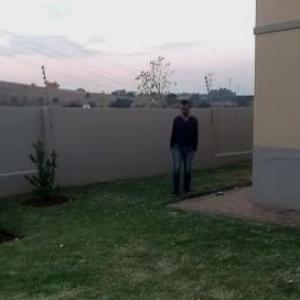follow: (169, 96, 203, 196)
